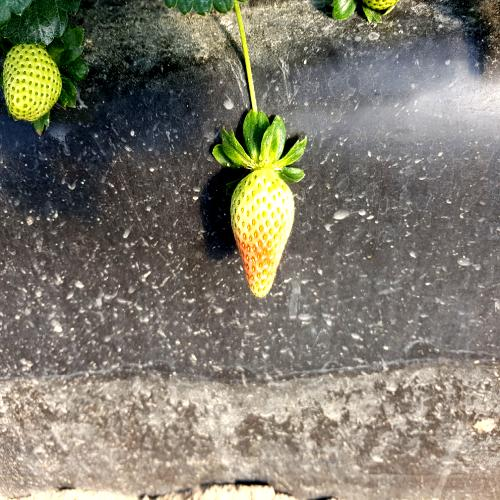partially-ripe: (226, 163, 299, 306)
unripe: (3, 37, 64, 124)
